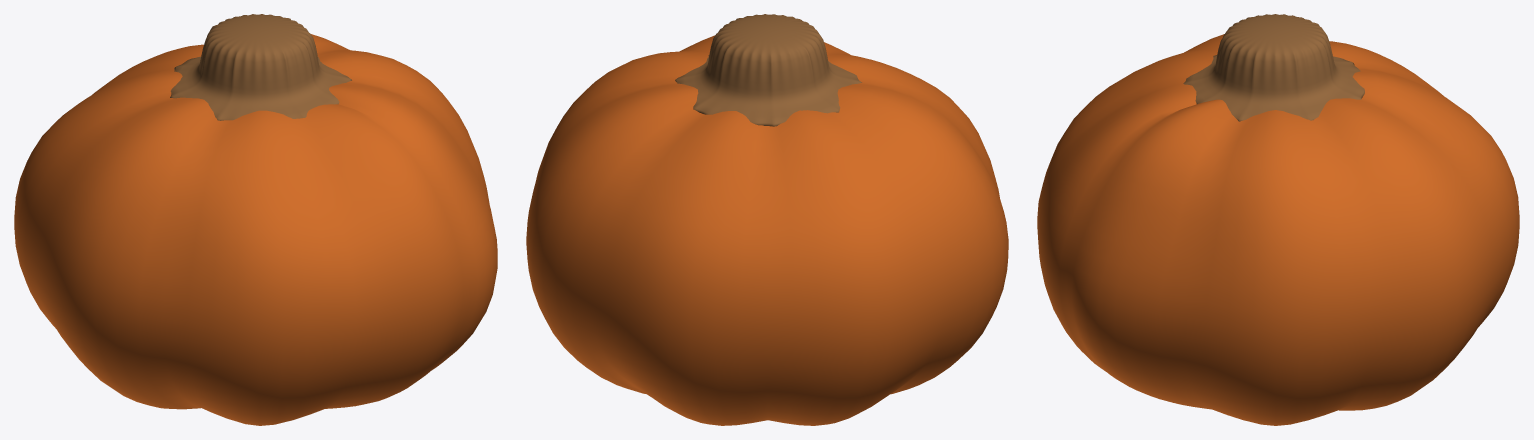
Rendered from pumpkin.glb.
3 renders of one model, left to right at view 1: azimuth 30°, elevation 25°; view 2: azimuth 150°, elevation 25°; view 3: azimuth 270°, elevation 25°, orthographic.
Visible parts, largest first — view 1: PumpkinBase, Stem; view 2: PumpkinBase, Stem; view 3: PumpkinBase, Stem.
Boxes of the visible parts, bbox=[...] form: PumpkinBase: bbox=[14, 34, 497, 425]; Stem: bbox=[170, 14, 351, 120]; PumpkinBase: bbox=[526, 35, 1008, 425]; Stem: bbox=[675, 14, 861, 126]; PumpkinBase: bbox=[1037, 34, 1519, 425]; Stem: bbox=[1183, 14, 1364, 121].
Size of the model in its own units: 5.5 by 4.34 by 5.45.
